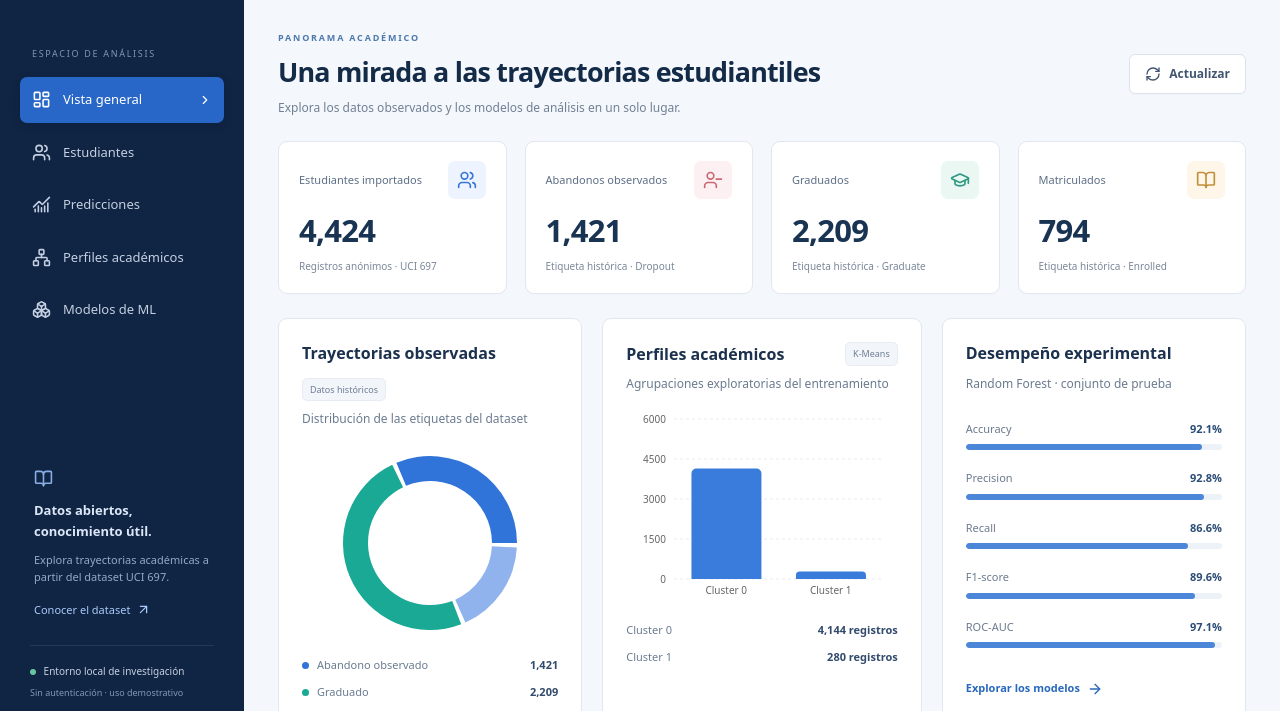
Test: flujos de la interfaz › navega desde dashboard y pagina con el servidor sin descargar detalles
Expected: the text "Estudiantes importados" is shown, [299,172,422,188]
Click the link "Estudiantes": coordinates (83, 152) [32,142,134,162]
(page scrolled)
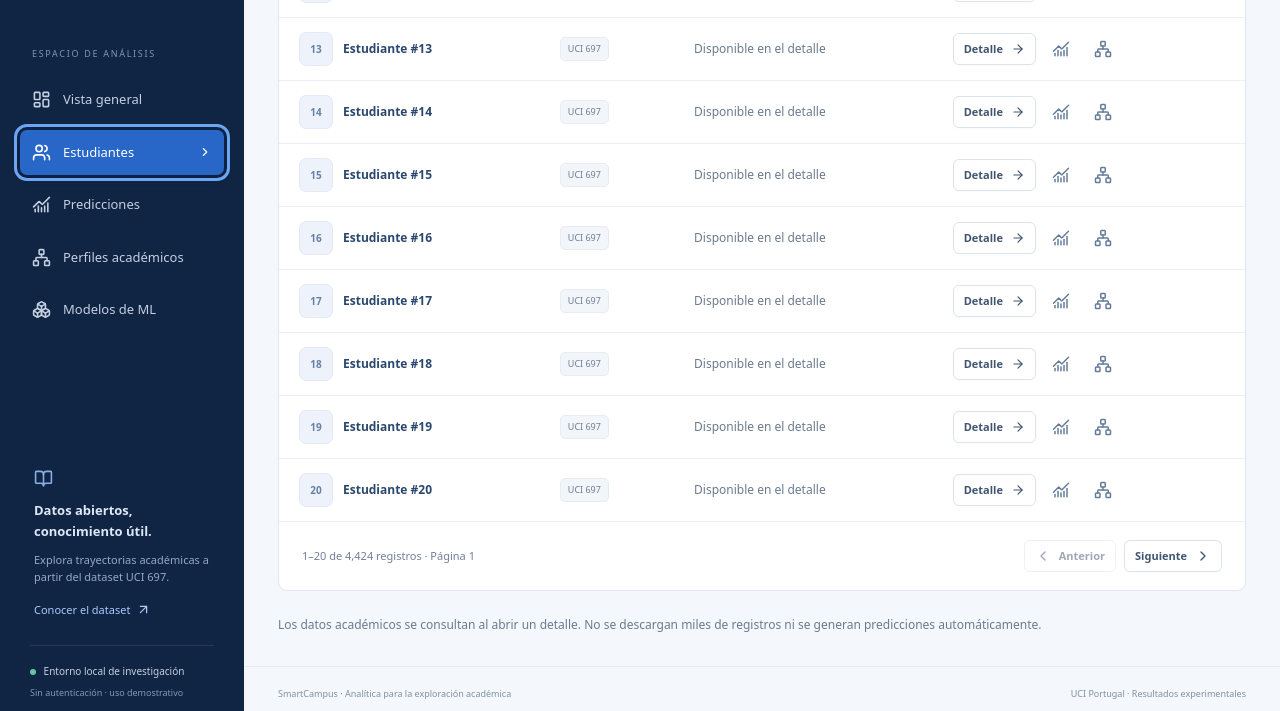
Click the button "Siguiente": coordinates (1173, 556) [1124,540,1222,572]
(page scrolled)
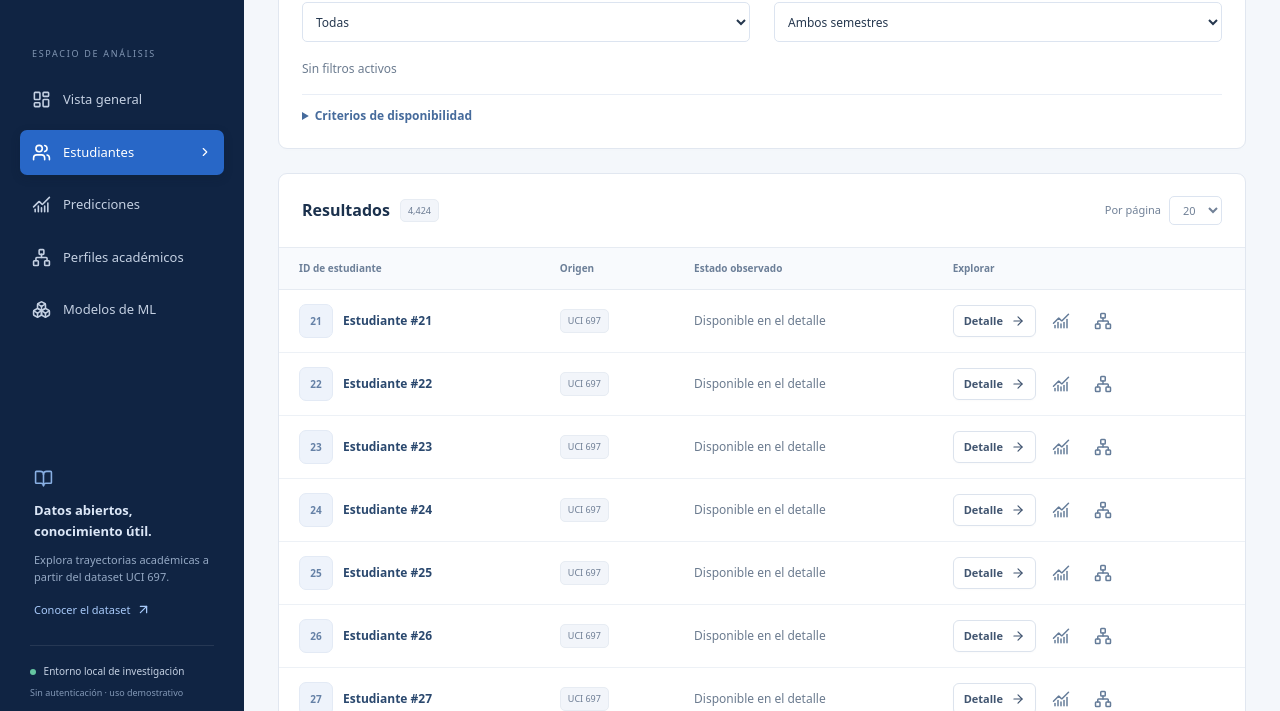
Now the link "21 Estudiante #21" is shown, box [299,304,432,338]
